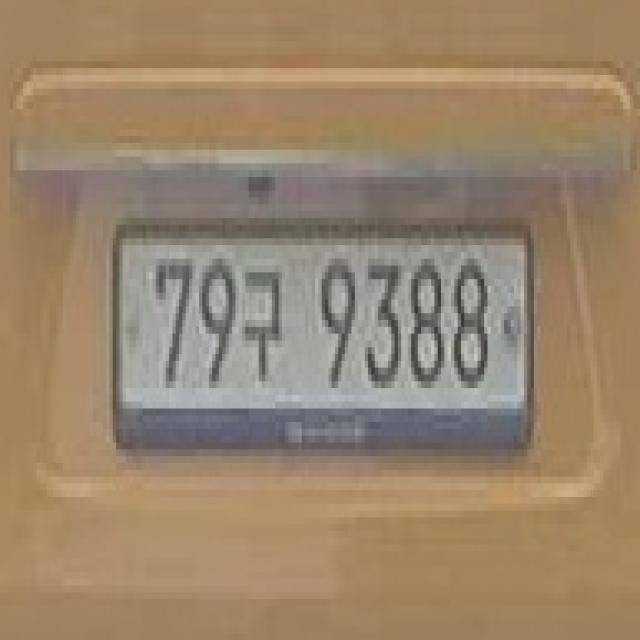plat: (111, 214, 535, 452)
